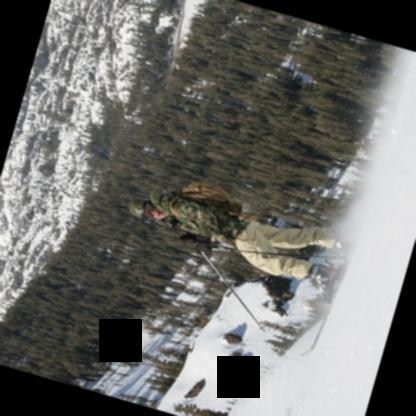backpack: (179, 181, 242, 211)
